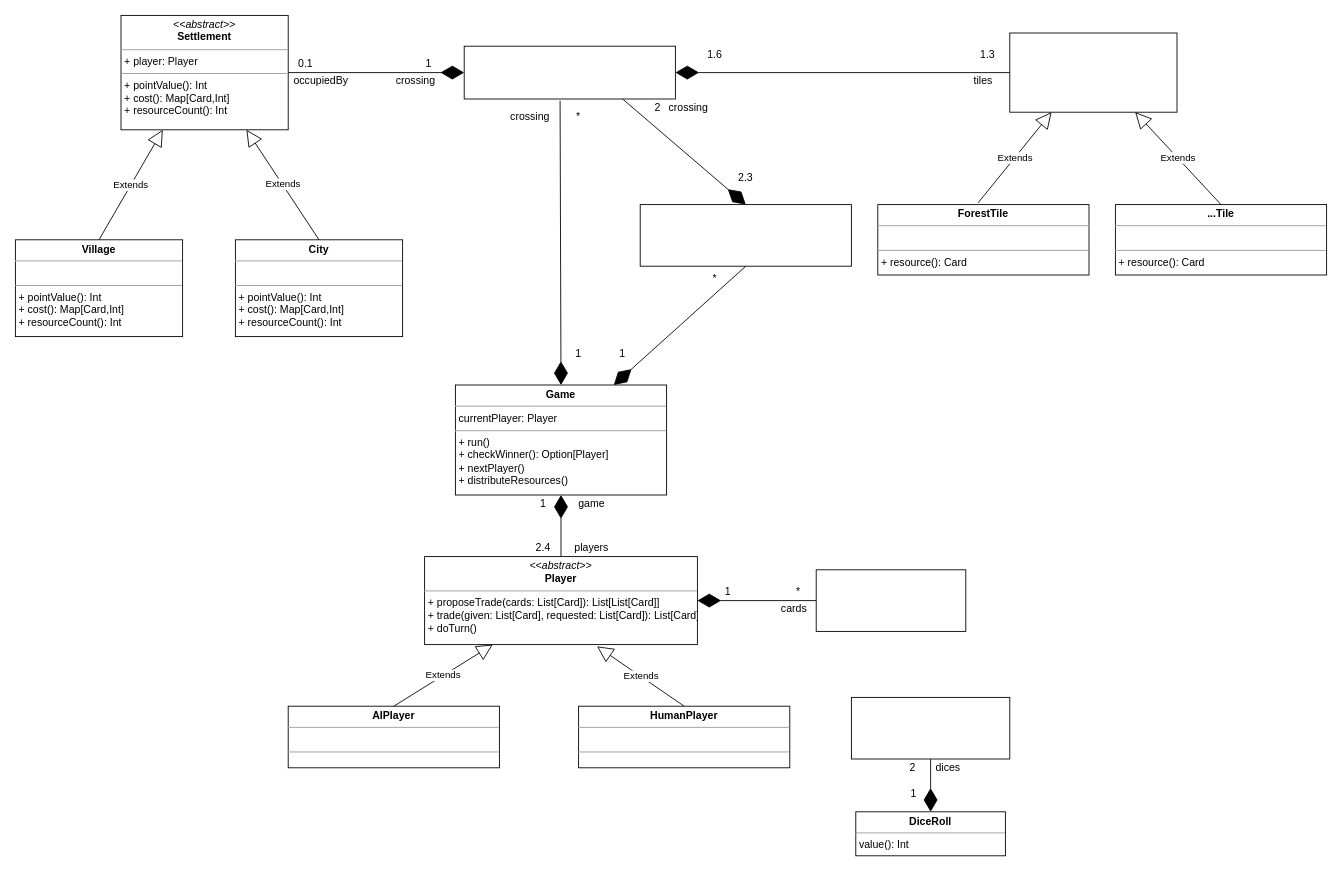
This 1342x871 diagram has some shape labels left out. Each missing label, with the centre of its shape:
"<<abstract>> Card + type: Enum[Lumber, ...]" goes at pixel 890 600.
"<<abstract>> Tile + diceValue: Int + resource(): Card" goes at pixel 1093 72.
"Connection + readOf: Option[Player] + cost(): Map[Card, Int]" goes at pixel 745 235.
"Crossing + distributeResources(dice: DiceRoll)" goes at pixel 569 72.
"«value type» Dice + value: Int {1<= value <= 6}" goes at pixel 930 728.
